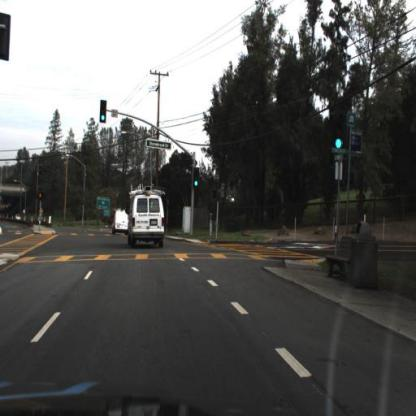car: (125, 189, 166, 246), (112, 208, 131, 239)
trafficLight-Green: (332, 120, 353, 158), (335, 107, 347, 157), (98, 99, 109, 128), (195, 163, 203, 192), (191, 177, 202, 196)
